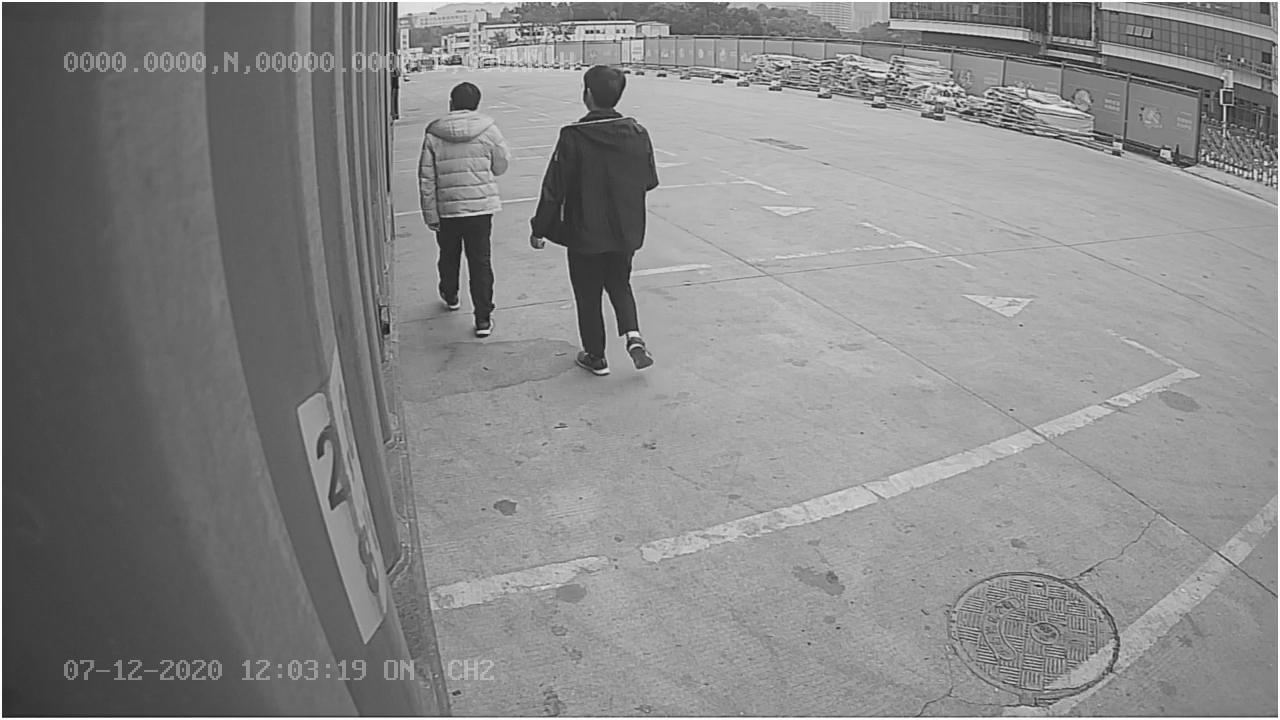person: (531, 63, 662, 374), (417, 80, 508, 335)
